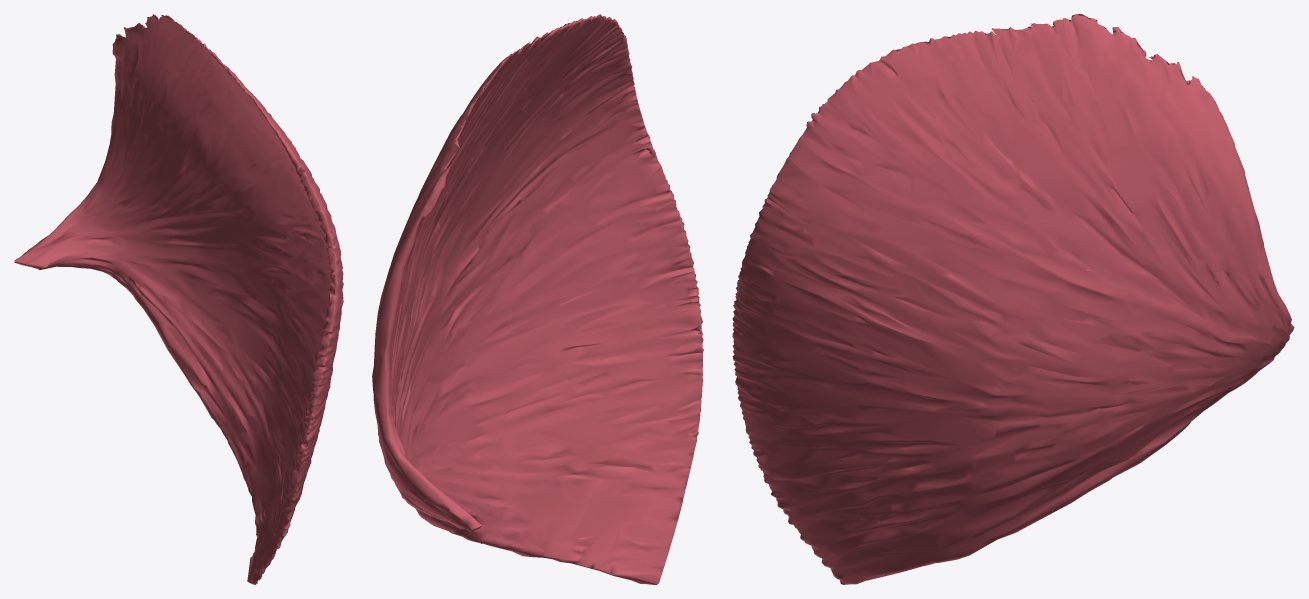
The picture shows the model from 3 angles, left to right: view 1: azimuth 30°, elevation 25°; view 2: azimuth 150°, elevation 25°; view 3: azimuth 270°, elevation 25°; orthographic projection. The views are drawn at different scales.
Visible parts, largest first — view 1: 左侧颞顶肌; view 2: 左侧颞顶肌; view 3: 左侧颞顶肌.
Boxes of the visible parts, x1=… form: 左侧颞顶肌: x1=14, y1=14, x2=343, y2=584; 左侧颞顶肌: x1=372, y1=14, x2=703, y2=584; 左侧颞顶肌: x1=732, y1=14, x2=1294, y2=584.
Size of the model in its own units: 0.0563 by 0.1721 by 0.1516.
